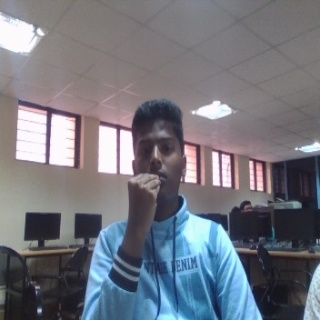Food: (123, 171, 166, 245)
